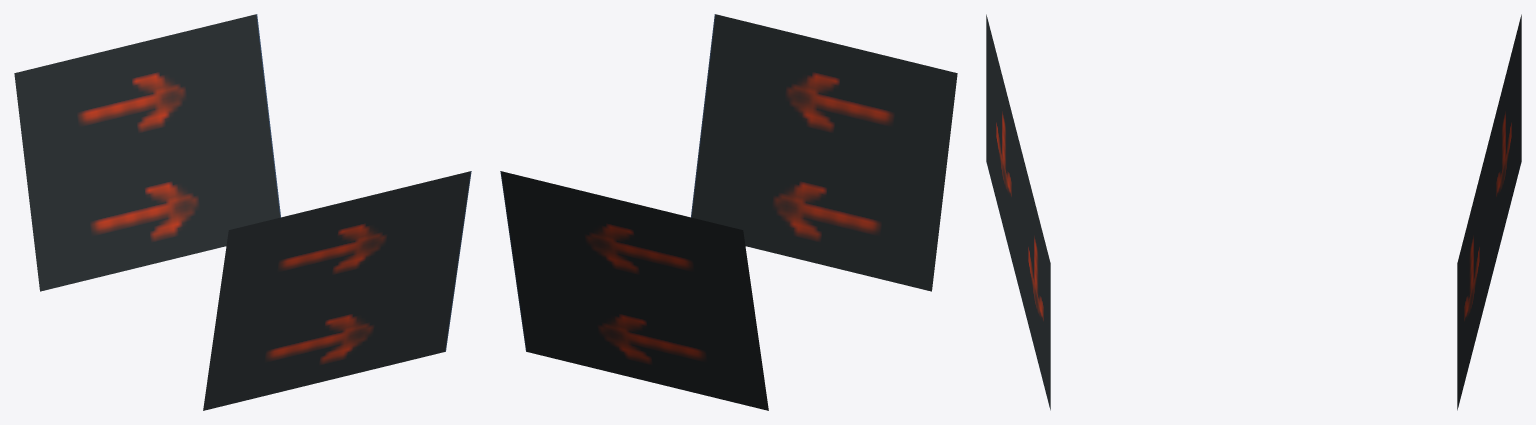
The model's file is SW_PROP_NextTrainSign_RightArrows.fbx.
The picture shows the model from 3 angles, left to right: view 1: azimuth 30°, elevation 25°; view 2: azimuth 150°, elevation 25°; view 3: azimuth 270°, elevation 25°; orthographic projection. The views are drawn at different scales.
Visible parts, largest first — view 1: SW_PROP_NextTrainSign_RightArrows; view 2: SW_PROP_NextTrainSign_RightArrows; view 3: SW_PROP_NextTrainSign_RightArrows.
Boxes of the visible parts, x1,y1,x2,y2 form: SW_PROP_NextTrainSign_RightArrows: (14,14,471,410); SW_PROP_NextTrainSign_RightArrows: (500,14,957,410); SW_PROP_NextTrainSign_RightArrows: (986,14,1521,410).
Size of the model in its own units: 34.11 by 26.78 by 52.15.
